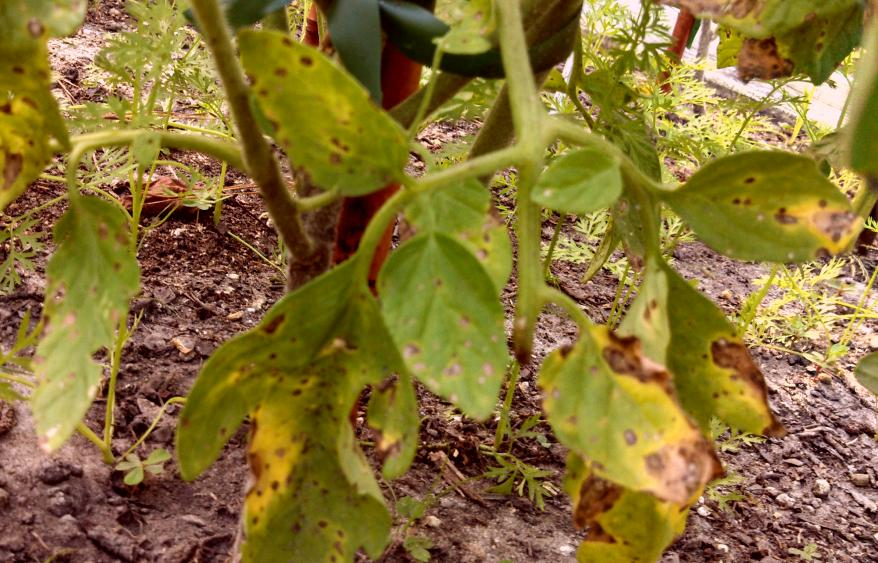Tomato Septoria leaf spot: (170, 254, 442, 563), (0, 149, 159, 492), (628, 252, 816, 463), (526, 277, 698, 507), (223, 24, 418, 210), (371, 216, 523, 430), (674, 137, 871, 267)
